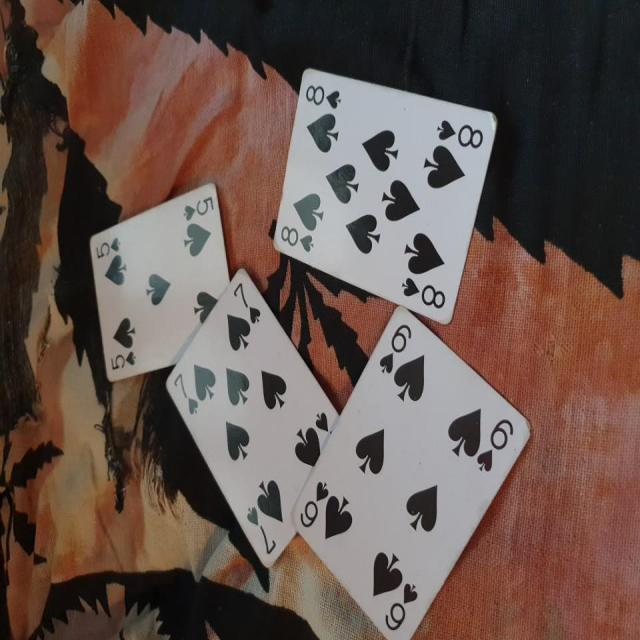5 Spades: (81, 180, 242, 382)
6 Spades: (288, 300, 542, 640)
7 Spades: (156, 266, 345, 578)
8 Spades: (265, 63, 507, 328)
